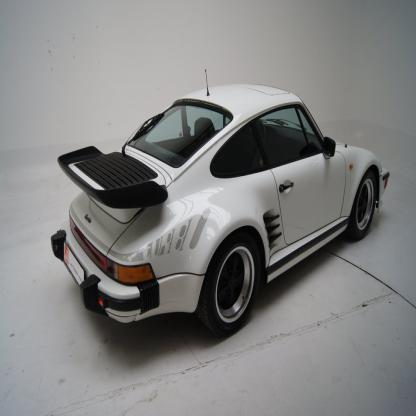Car: (51, 69, 390, 337)
